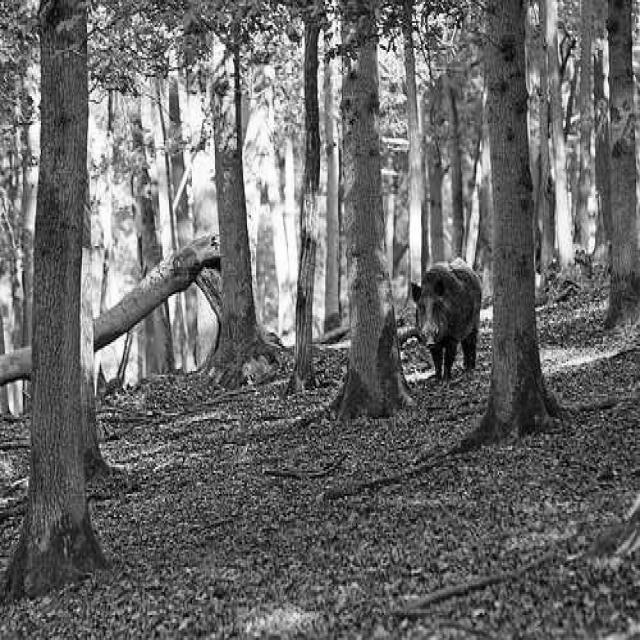boar: (411, 256, 479, 377)
